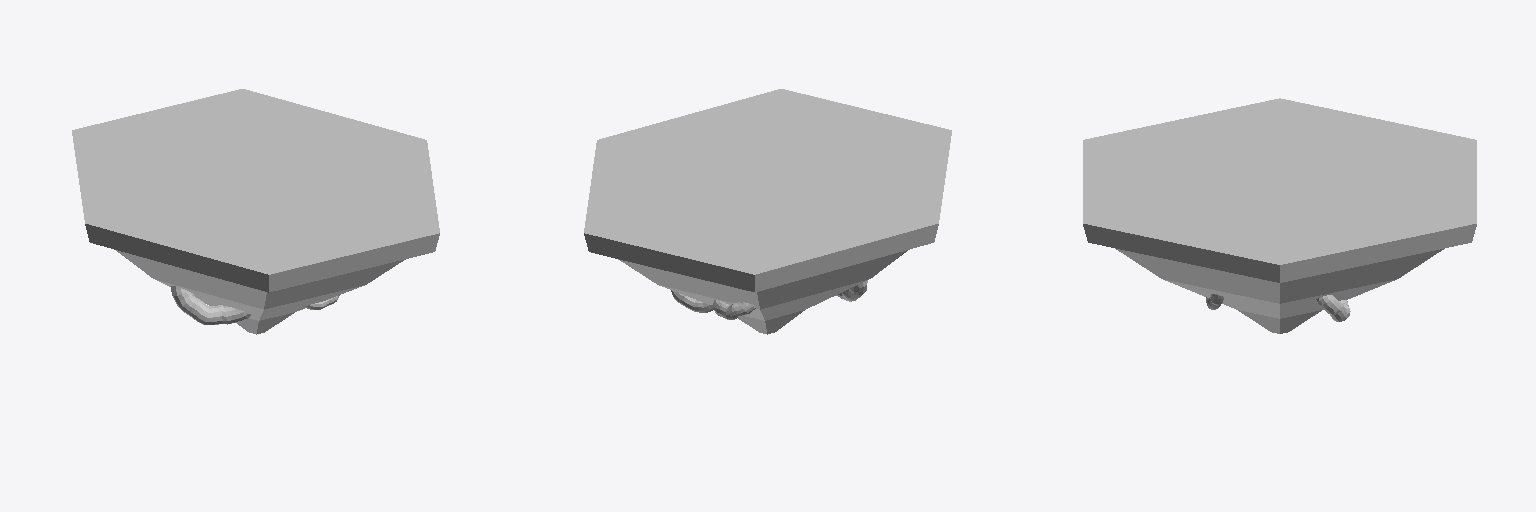
The model's file is plains_island.obj.
The picture shows the model from 3 angles: view 1: azimuth 30°, elevation 25°; view 2: azimuth 150°, elevation 25°; view 3: azimuth 270°, elevation 25°; orthographic projection.
Visible parts, largest first — view 1: Torus.003; view 2: Torus.003; view 3: Torus.003.
Part boxes in pixels (x1,y1,x2,y2): Torus.003: (72,89,439,334); Torus.003: (584,89,951,334); Torus.003: (1083,98,1476,333).
Bounding box in the file's own units: 22 × 9.13 × 22.